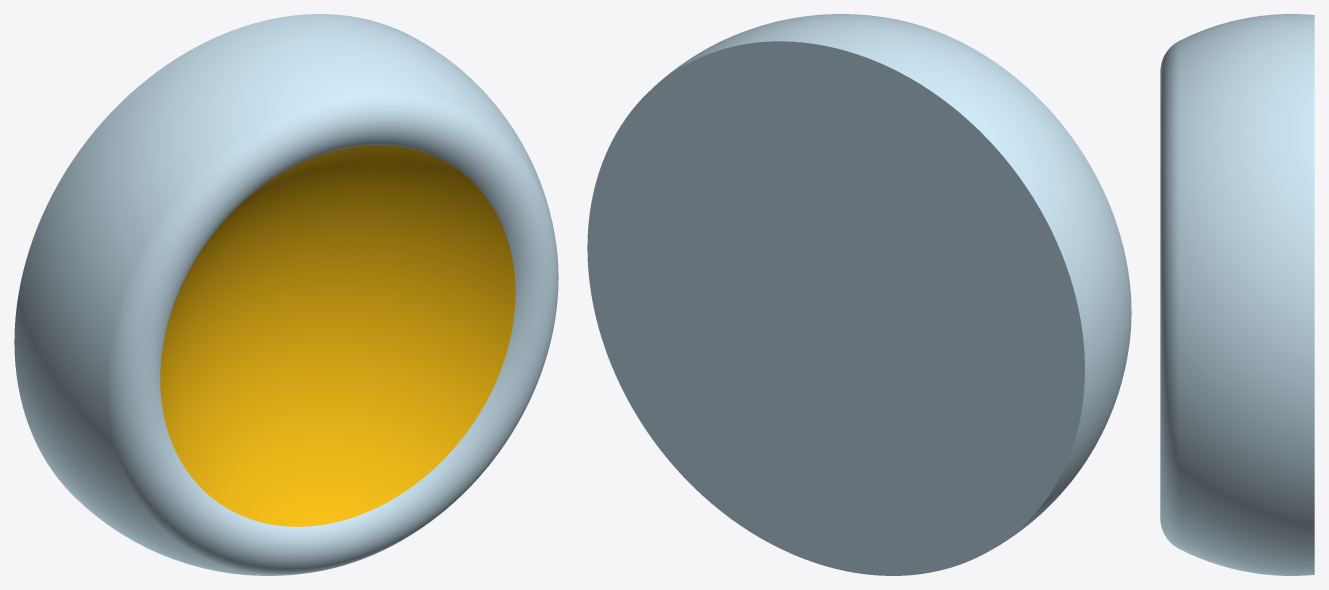
The picture shows the model from 3 angles, left to right: view 1: azimuth 30°, elevation 25°; view 2: azimuth 150°, elevation 25°; view 3: azimuth 270°, elevation 25°; orthographic projection. The views are drawn at different scales.
Visible parts, largest first — view 1: Part 1; view 2: Part 1; view 3: Part 1.
Boxes of the visible parts, x1=… form: Part 1: x1=14, y1=14, x2=558, y2=575; Part 1: x1=587, y1=14, x2=1131, y2=575; Part 1: x1=1160, y1=14, x2=1314, y2=575.
Size of the model in its own units: 0.204 by 0.204 by 0.056.
